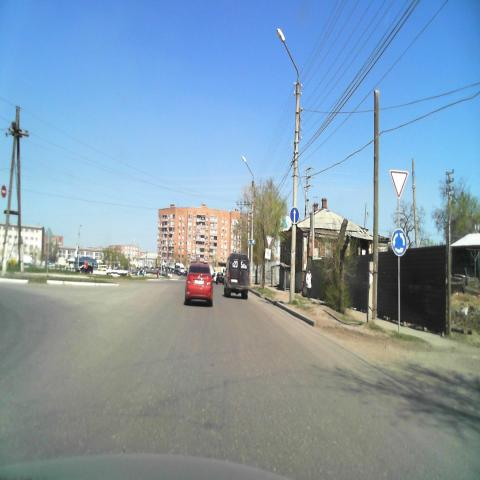4_3: (391, 228, 407, 256)
